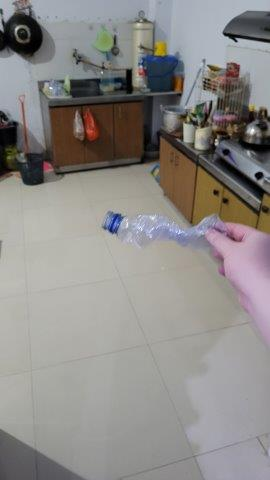botolplastik: (102, 208, 227, 250)
